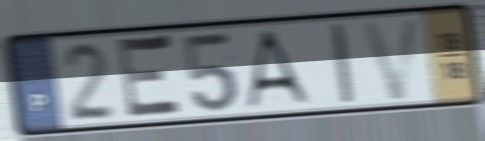2: (59, 40, 118, 125)
5: (179, 28, 242, 115)
A: (243, 27, 315, 111)
E: (115, 32, 186, 122)
I: (326, 20, 358, 107)
V: (357, 13, 425, 105)
